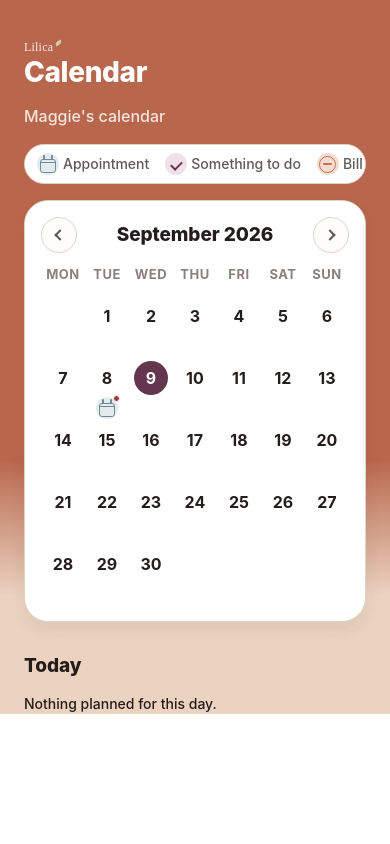
Phase 10: Calendar month/date rendering › agrees with the existing engine: a past appointment is Overdue, not silently completed
Click the button labelled "8". click: point(107, 388)
box: [85, 357, 129, 419]
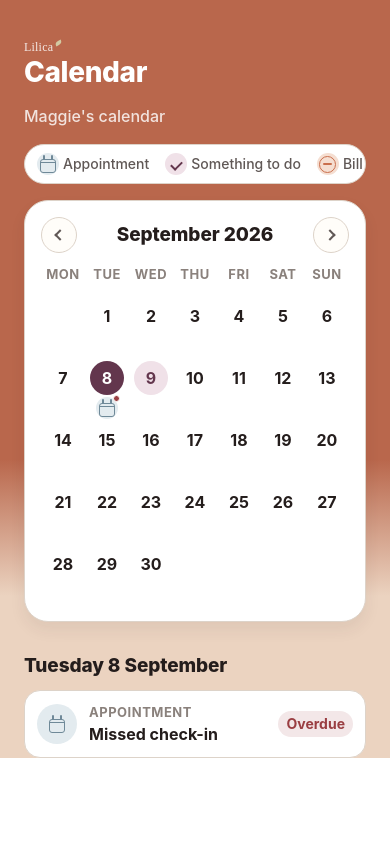
Expected: the text "Missed check-in" is shown, [89, 724, 218, 744]
Expected: the text "Overdue" is shown, [286, 714, 345, 734]
